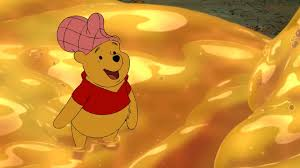Winnie: (72, 36, 137, 117)
